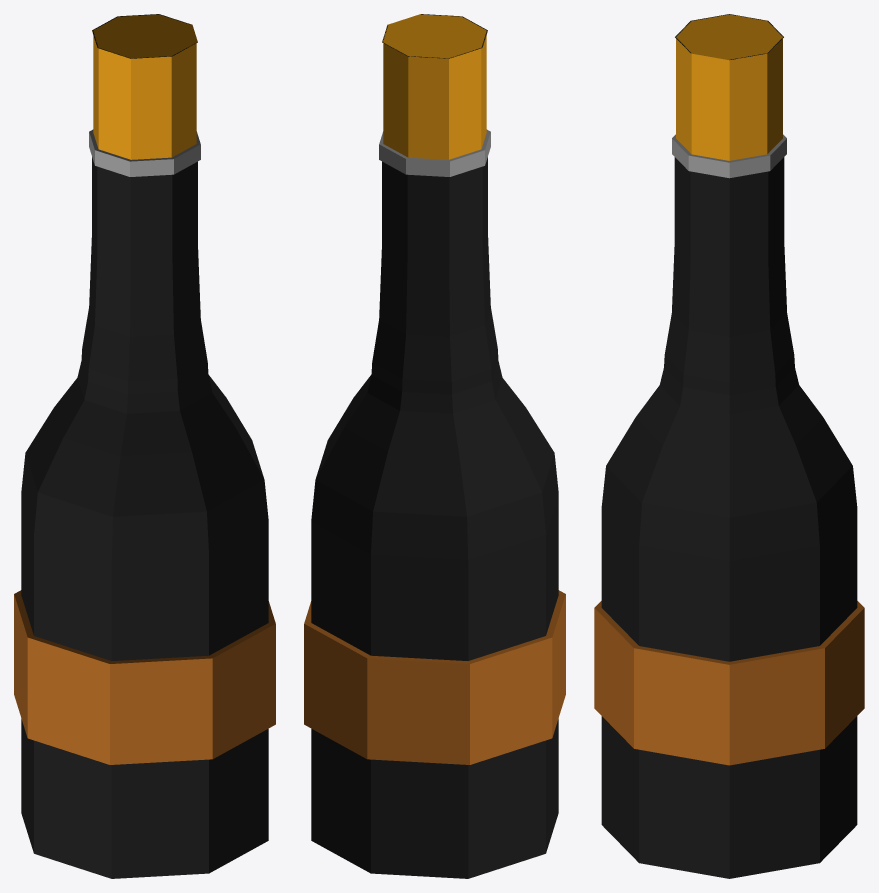
The model's file is Bottle 11.fbx.
3 views of the same model, side by side, from view 1: azimuth 30°, elevation 25°; view 2: azimuth 150°, elevation 25°; view 3: azimuth 270°, elevation 25° (orthographic).
Visible parts, largest first — view 1: Node 0; view 2: Node 0; view 3: Node 0.
Part boxes in pixels (bbox=[...]): Node 0: bbox=[14, 14, 275, 878]; Node 0: bbox=[304, 14, 565, 878]; Node 0: bbox=[594, 14, 864, 878].
Bounding box in the file's own units: 0.1787 × 0.5752 × 0.1787.
